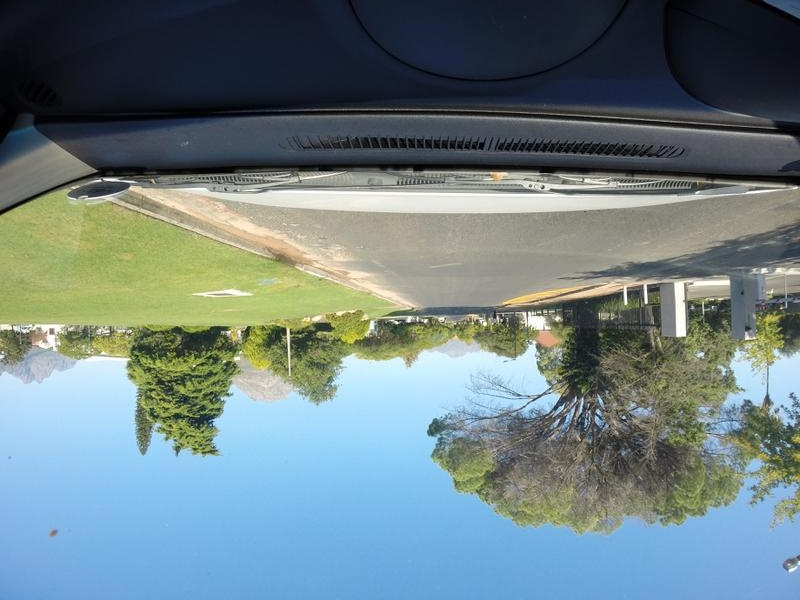pothole: (313, 237, 376, 262)
